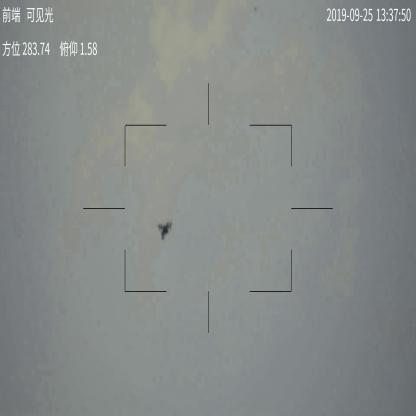uav: (155, 218, 176, 242)
